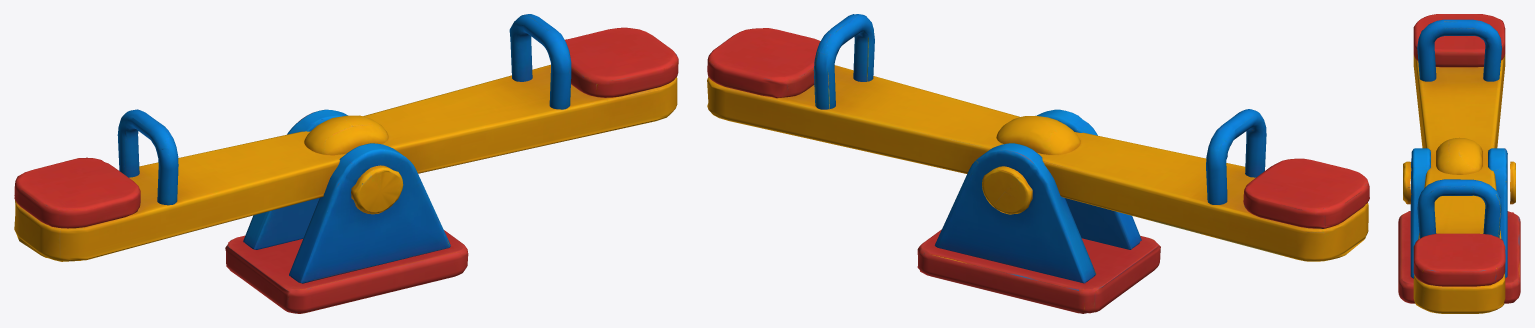
Rendered from seesaw_large.glb.
3 views of the same model, side by side, from view 1: azimuth 30°, elevation 25°; view 2: azimuth 150°, elevation 25°; view 3: azimuth 270°, elevation 25° (orthographic). The views are drawn at different scales.
Size of what is drawn, in the model's own units: 3.32 by 0.9999 by 0.6635.
Materials: 1 (1 with a texture image).
